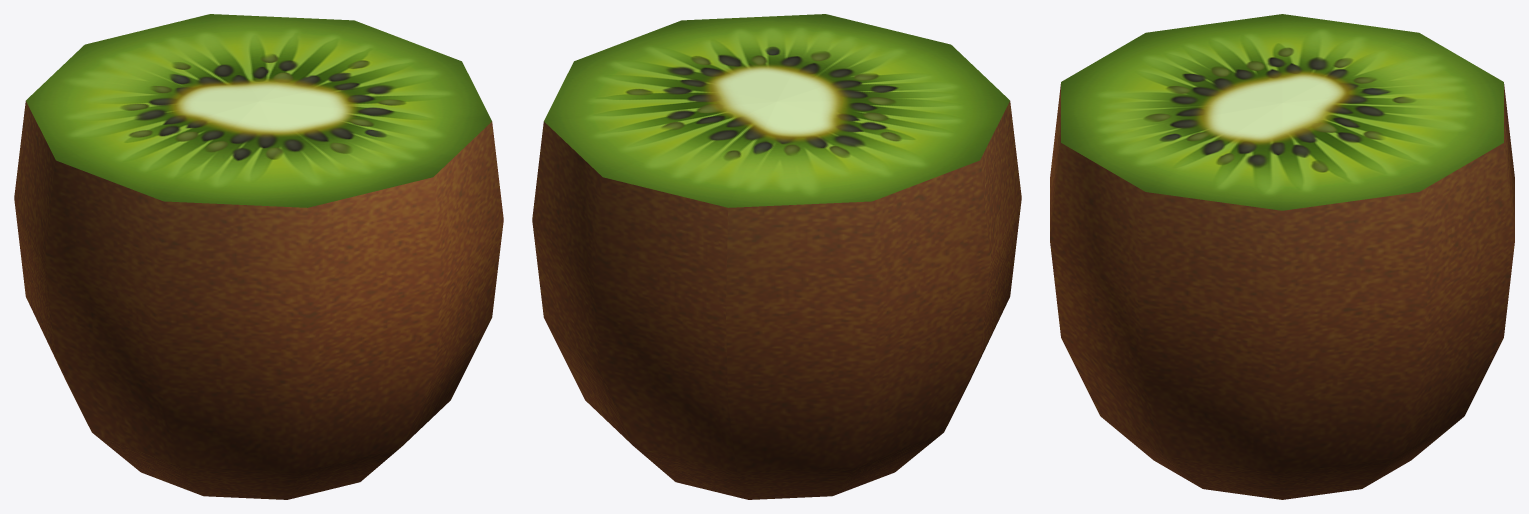
File: Kiwi_Half.fbx
3 views of the same model, side by side, from view 1: azimuth 30°, elevation 25°; view 2: azimuth 150°, elevation 25°; view 3: azimuth 270°, elevation 25° (orthographic).
Parts seen in each view (by area): view 1: Kiwi_Half; view 2: Kiwi_Half; view 3: Kiwi_Half.
Part boxes in pixels (<box>): Kiwi_Half: <box>14,14,503,499</box>; Kiwi_Half: <box>532,14,1021,499</box>; Kiwi_Half: <box>1050,14,1514,499</box>.
Size of the model in its own units: 23.64 by 19.61 by 22.49.
Materials: 1 (1 with a texture image).
